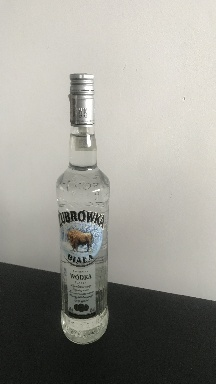butelka: (54, 69, 111, 347)
